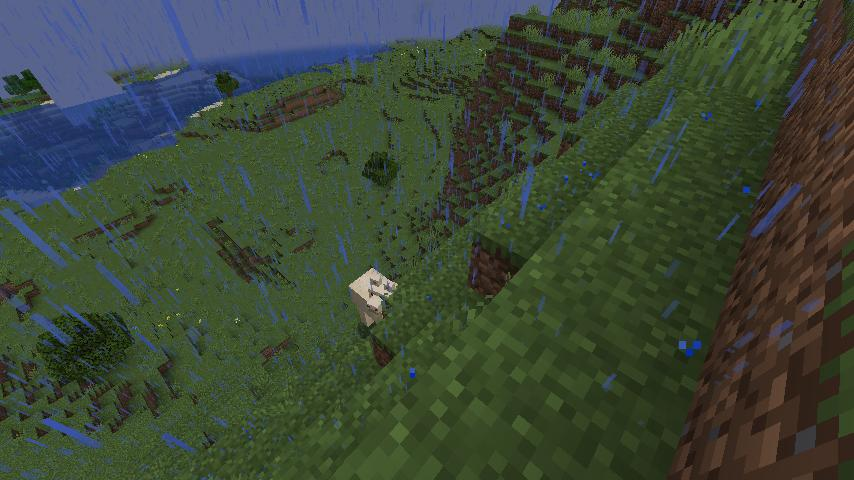llama: (346, 264, 401, 327)
